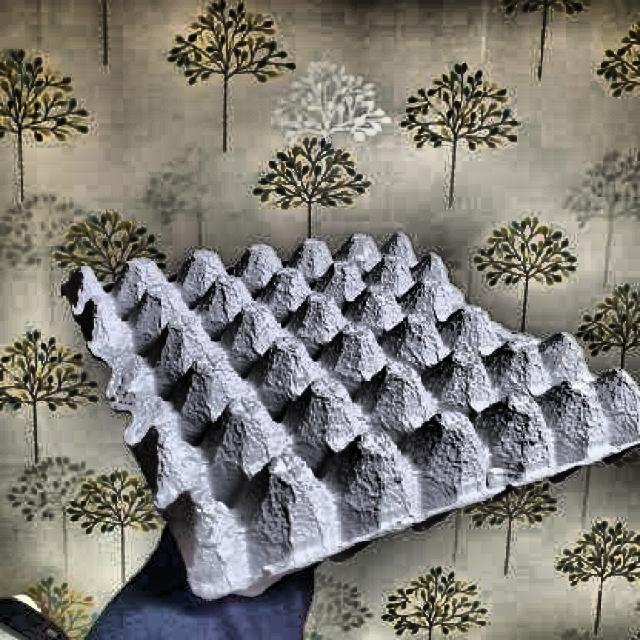Cardbox: (56, 213, 640, 612)
